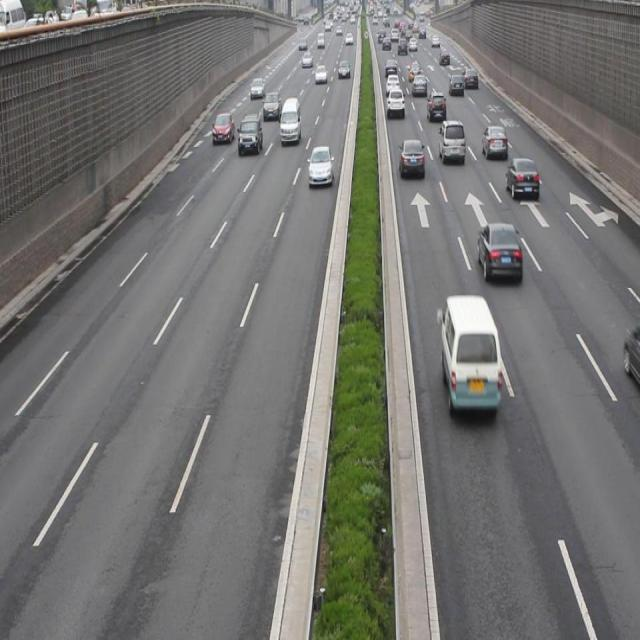car: (476, 222, 521, 284), (504, 156, 538, 200), (438, 119, 464, 164), (398, 138, 425, 180), (307, 145, 333, 187), (237, 113, 262, 155), (481, 124, 508, 162), (212, 110, 234, 144)
truck: (440, 295, 500, 411), (279, 97, 301, 145)
